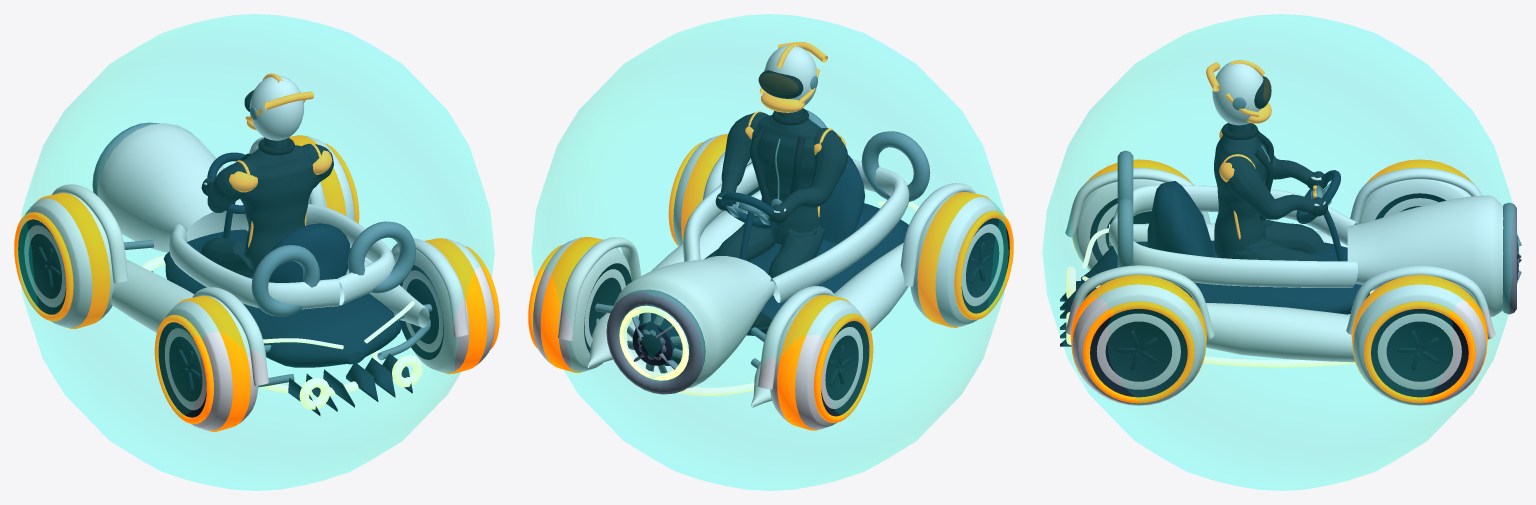
File: nexus.glb
3 renders of one model, left to right at view 1: azimuth 30°, elevation 25°; view 2: azimuth 150°, elevation 25°; view 3: azimuth 270°, elevation 25°, orthographic.
Parts seen in each view (by area): view 1: nexus:aegis-shield, nexus:coachwork-batch.001, nexus:coachwork-batch, nexus:torso, nexus:coachwork-batch.002, nexus:rounded-wheel-shell.002, nexus:rounded-wheel-shell, nexus:rounded-wheel-shell.003, nexus:translucent-tire-band.002, nexus:translucent-tire-band, nexus:translucent-tire-band.003, nexus:helmet-shell (+13 smaller); view 2: nexus:aegis-shield, nexus:coachwork-batch.001, nexus:coachwork-batch.002, nexus:torso, nexus:coachwork-batch, nexus:rounded-wheel-shell, nexus:rounded-wheel-shell.002, nexus:rounded-wheel-shell.001, nexus:translucent-tire-band, nexus:translucent-tire-band.002, nexus:translucent-tire-band.001, nexus:arm-l-mesh (+17 smaller); view 3: nexus:aegis-shield, nexus:coachwork-batch.001, nexus:coachwork-batch, nexus:torso, nexus:rounded-wheel-shell.001, nexus:rounded-wheel-shell.003, nexus:recessed-colored-hub.003, nexus:recessed-colored-hub.001, nexus:coachwork-batch.002, nexus:arm-r-mesh, nexus:wheel-light-ring.003, nexus:wheel-light-ring.001 (+11 smaller).
Boxes of the visible parts, x1,y1,x2,y2 form: nexus:aegis-shield: (17,14,494,490); nexus:coachwork-batch.001: (52,123,468,385); nexus:coachwork-batch: (164,201,412,415); nexus:torso: (200,137,317,277); nexus:coachwork-batch.002: (92,122,432,387); nexus:rounded-wheel-shell.002: (165,296,258,430); nexus:rounded-wheel-shell: (24,193,116,327); nexus:rounded-wheel-shell.003: (402,238,494,372); nexus:translucent-tire-band.002: (177,296,250,431); nexus:translucent-tire-band: (37,193,110,328); nexus:translucent-tire-band.003: (424,238,487,374); nexus:helmet-shell: (249,75,304,140); nexus:aegis-shield: (531,14,1008,490); nexus:coachwork-batch.001: (558,151,975,407); nexus:coachwork-batch.002: (595,110,930,394); nexus:torso: (715,108,825,278); nexus:coachwork-batch: (632,154,908,365); nexus:rounded-wheel-shell: (770,295,862,429); nexus:rounded-wheel-shell.002: (910,192,1003,326); nexus:rounded-wheel-shell.001: (533,237,631,371); nexus:translucent-tire-band: (777,294,850,430); nexus:translucent-tire-band.002: (917,192,991,327); nexus:translucent-tire-band.001: (540,237,603,372); nexus:arm-l-mesh: (772,128,847,215); nexus:aegis-shield: (1042,14,1519,490); nexus:coachwork-batch.001: (1065,168,1503,362); nexus:coachwork-batch: (1060,181,1517,346); nexus:torso: (1214,123,1327,261); nexus:rounded-wheel-shell.001: (1353,284,1486,405); nexus:rounded-wheel-shell.003: (1072,284,1205,405); nexus:recessed-colored-hub.003: (1090,308,1187,397); nexus:recessed-colored-hub.001: (1371,308,1468,397); nexus:coachwork-batch.002: (1117,150,1521,314); nexus:arm-r-mesh: (1223,152,1324,219); nexus:wheel-light-ring.003: (1083,301,1194,403); nexus:wheel-light-ring.001: (1364,301,1475,403).
Size of the model in its own units: 4.3 by 4.3 by 4.32.
